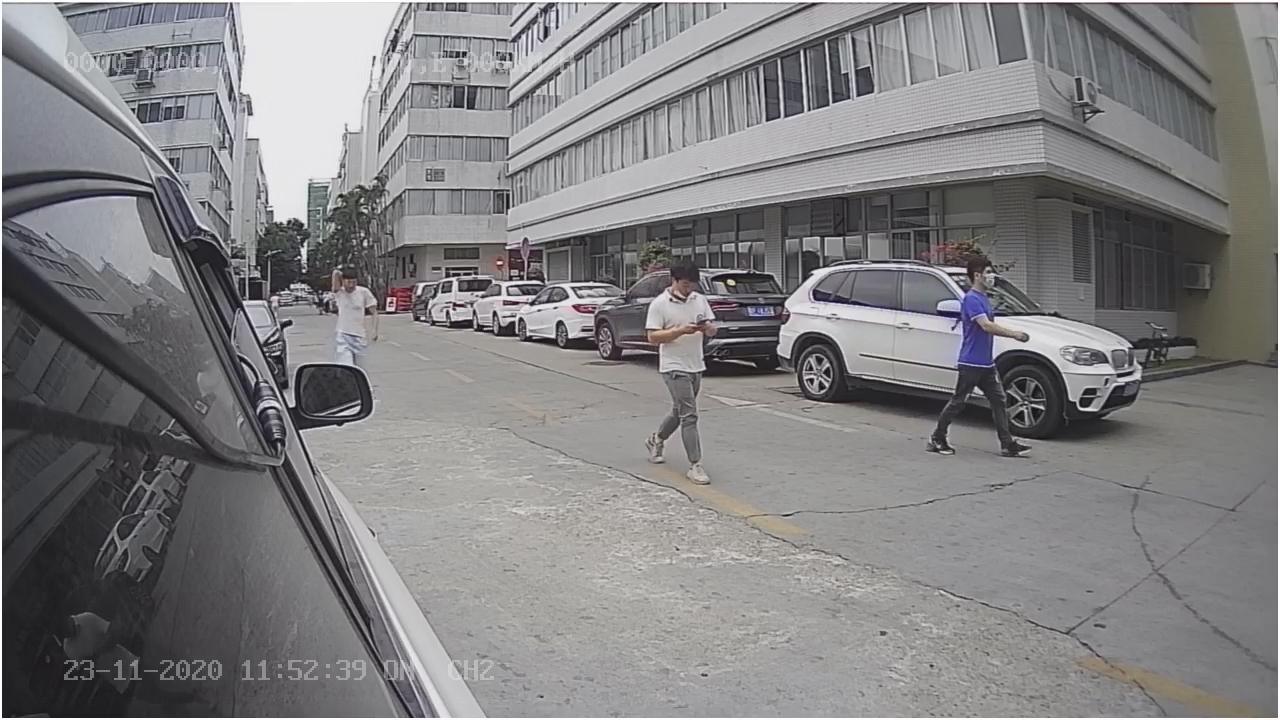person: (645, 261, 713, 468)
